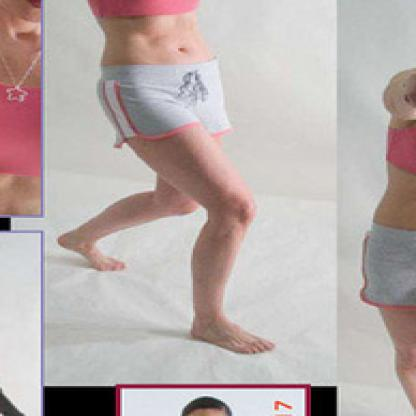gun: (0, 364, 30, 414)
